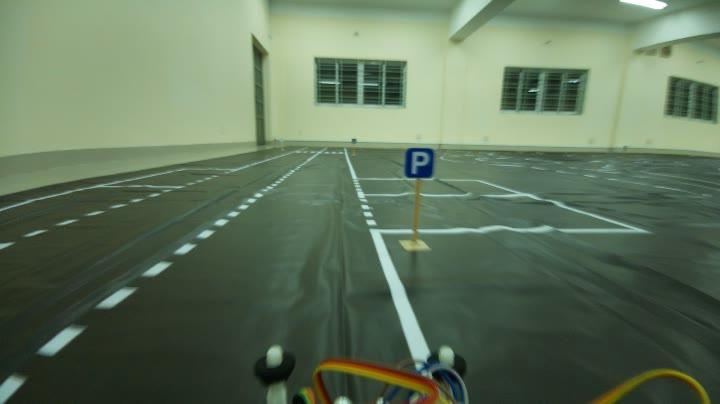parking: (396, 143, 444, 188)
